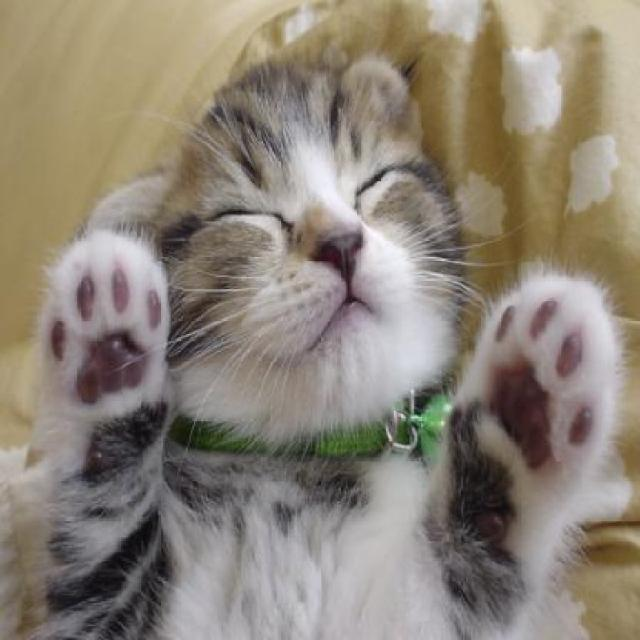cat: (34, 52, 621, 639)
